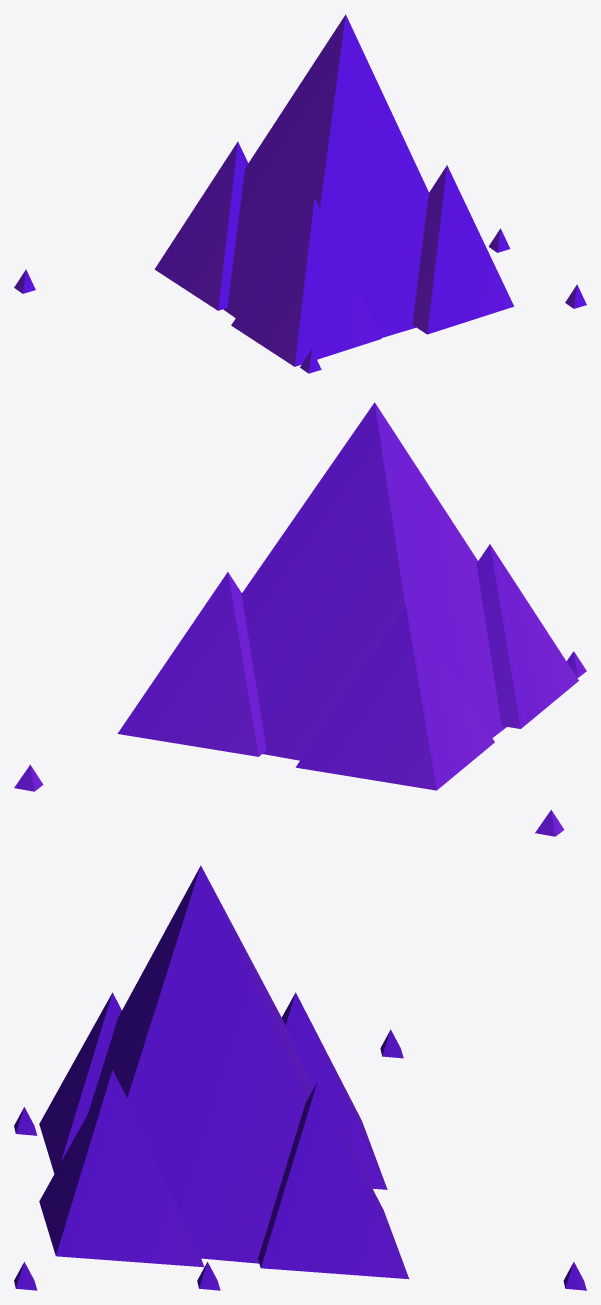
File: Crystal.fbx
3 views of the same model, one above another, from view 1: azimuth 30°, elevation 25°; view 2: azimuth 150°, elevation 25°; view 3: azimuth 270°, elevation 25° (orthographic). The views are drawn at different scales.
Visible parts, largest first — view 1: Pyramid_Crystals; view 2: Pyramid_Crystals; view 3: Pyramid_Crystals.
Boxes of the visible parts, x1,y1,x2,y2 form: Pyramid_Crystals: (14,14,586,373); Pyramid_Crystals: (14,402,586,836); Pyramid_Crystals: (14,865,586,1290).
Size of the model in its own units: 313 by 200 by 313.
Materials: 1 (1 with a texture image).
